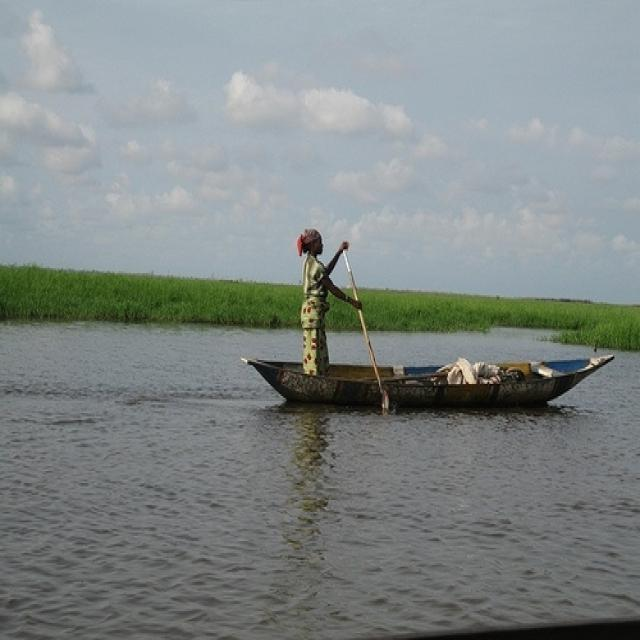boat: (242, 348, 614, 417)
